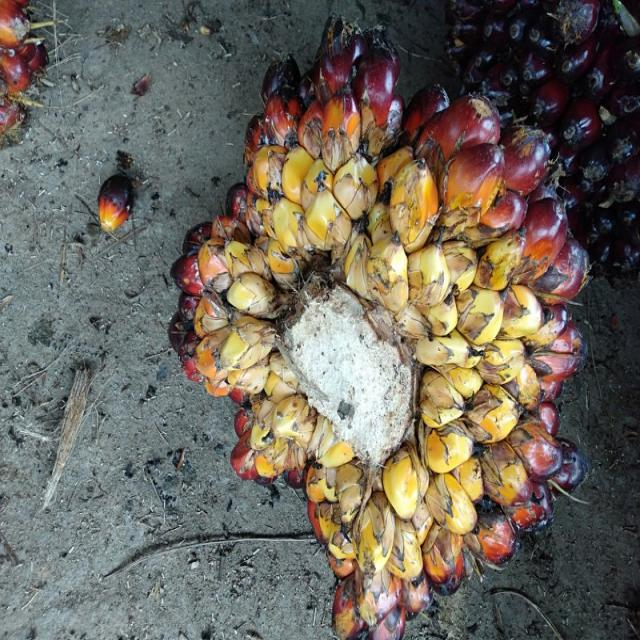fraksi 1: (169, 33, 595, 640)
